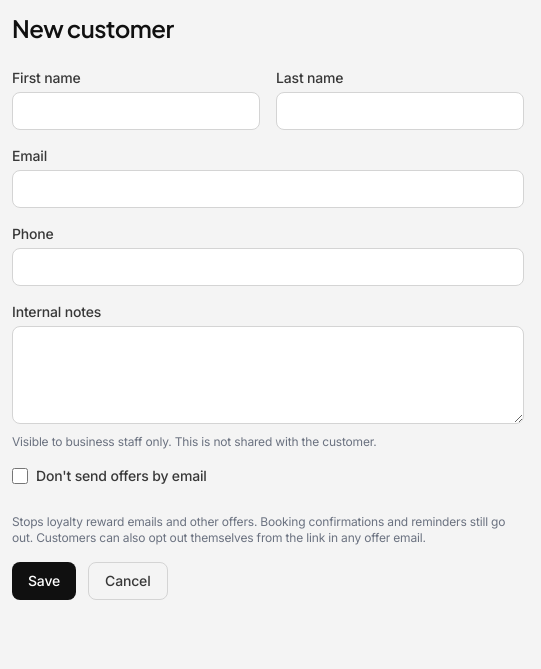
Test: CustomerForm — server rejections › shows a form-level message for a 403
Type "Oliver" into the field labelled "First name" at (136, 111), box left=12, top=92, right=260, bottom=130
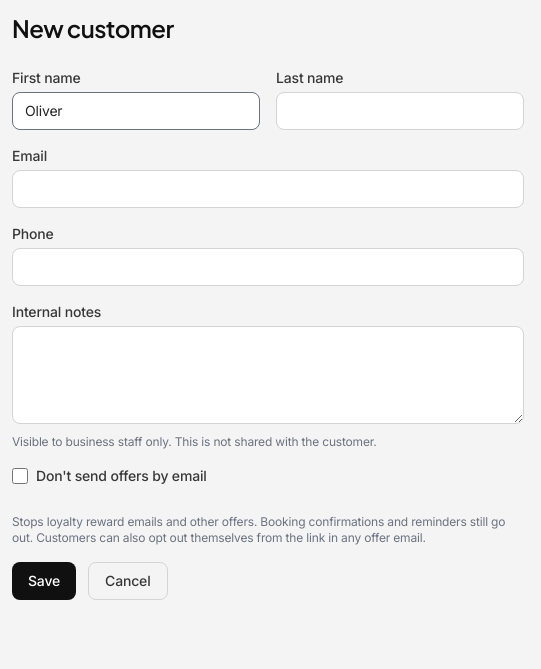
Type "Bennett" into the field labelled "Last name" at (400, 111), box left=276, top=92, right=524, bottom=130
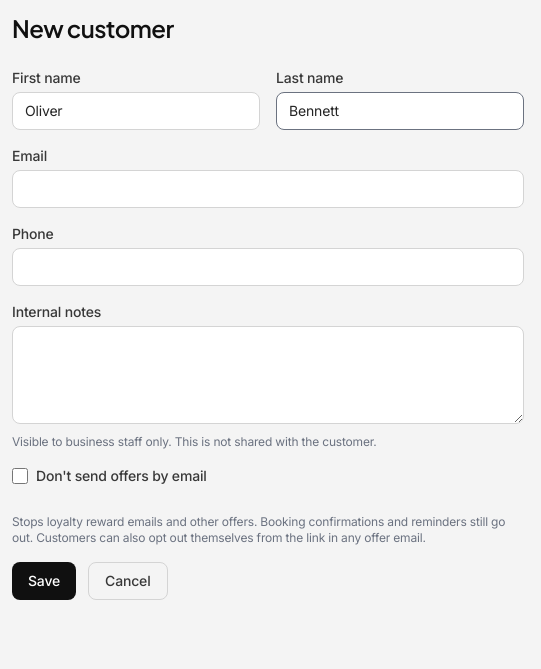
Click the button "Save" at (44, 581), box left=12, top=562, right=76, bottom=600
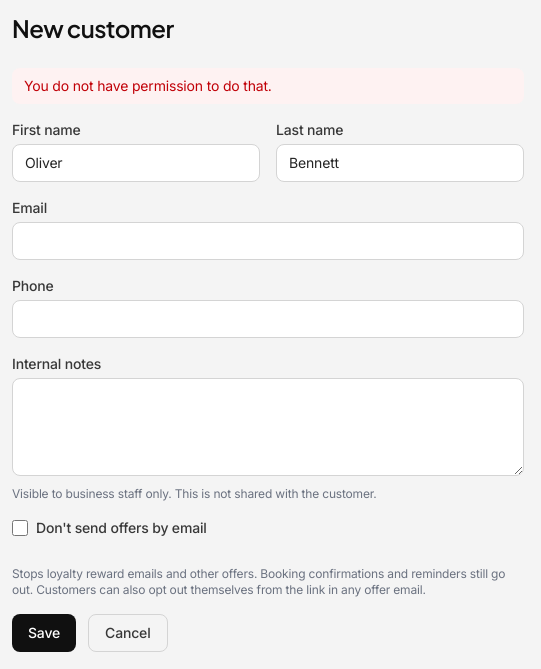
Result: the text "You do not have permission to do that." is shown at left=12, top=68, right=524, bottom=104
